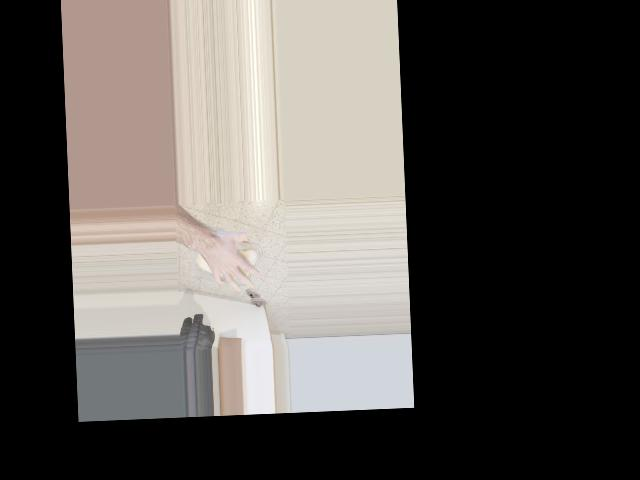cheese: (193, 224, 261, 292)
